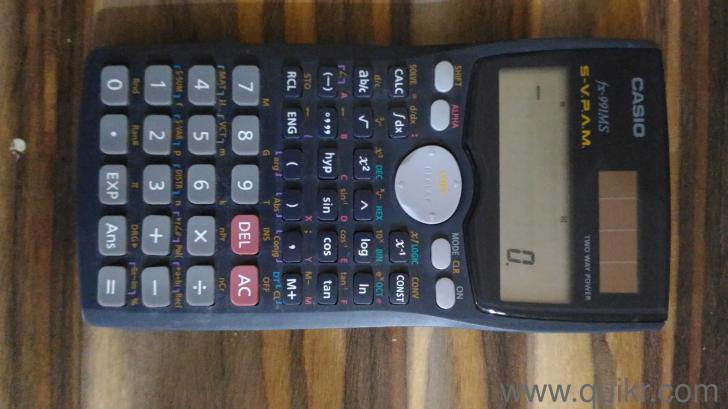Calculator: (69, 36, 675, 338)
